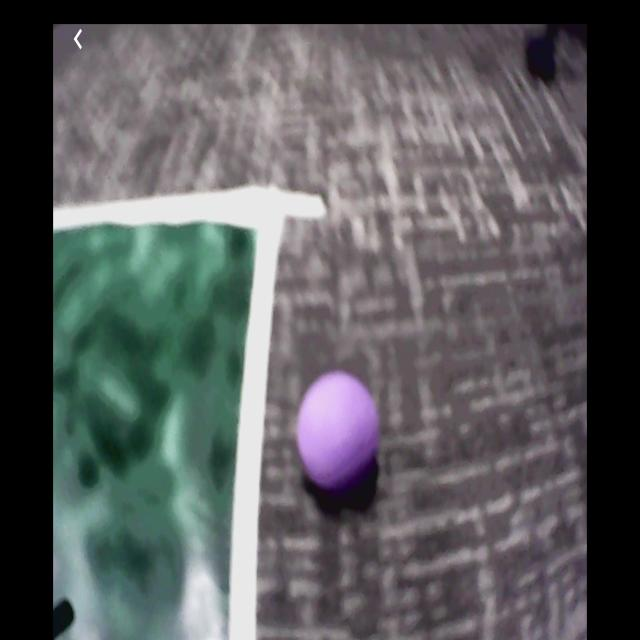ball: (296, 369, 382, 499)
